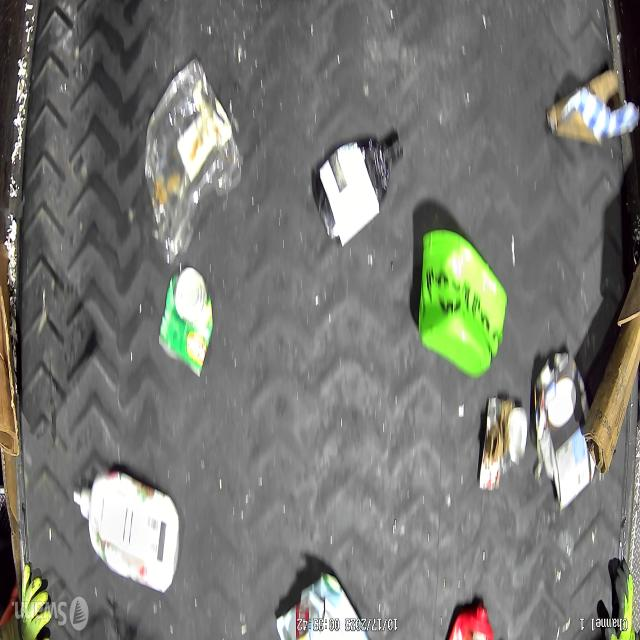can: (158, 264, 212, 376), (478, 395, 528, 492)
non_white_jug: (72, 468, 179, 591), (418, 228, 506, 377)
